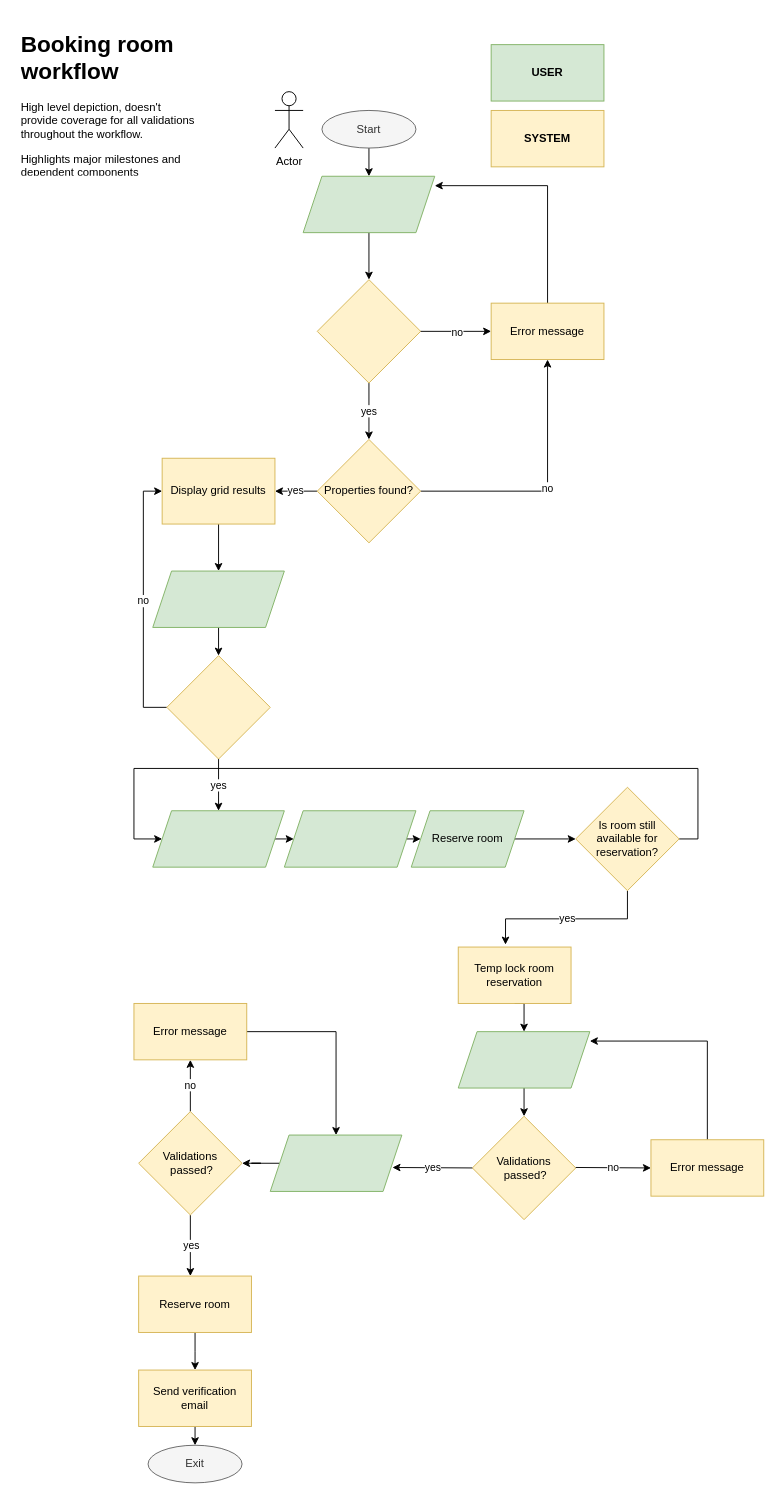
Some shapes in this 780 by 1499 pixel diagram are drawn without their labels. The shapes that lost their labels are listed below. From the top down, each one's box as (x1, y1, x2, y2) in pixels, then its label:
(302, 175, 435, 233): destination* checkIn checkOut
(316, 279, 421, 383): Search criteria validation passed?
(152, 570, 284, 627): Select hotel
(166, 655, 270, 759): Rooms available?
(152, 810, 284, 867): Display rooms available
(283, 810, 416, 867): Select room
(457, 1031, 590, 1088): Step 1: Enter personal data
(269, 1134, 402, 1191): Step 2: Enter address & billing
